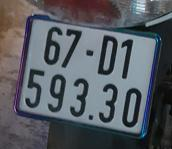0: (119, 85, 143, 132)
1: (116, 37, 135, 82)
3: (97, 81, 120, 126), (68, 76, 91, 120)
5: (22, 66, 46, 111)
6: (41, 25, 64, 68)
7: (59, 27, 85, 73)
9: (45, 72, 68, 116)
D: (95, 33, 120, 79)
